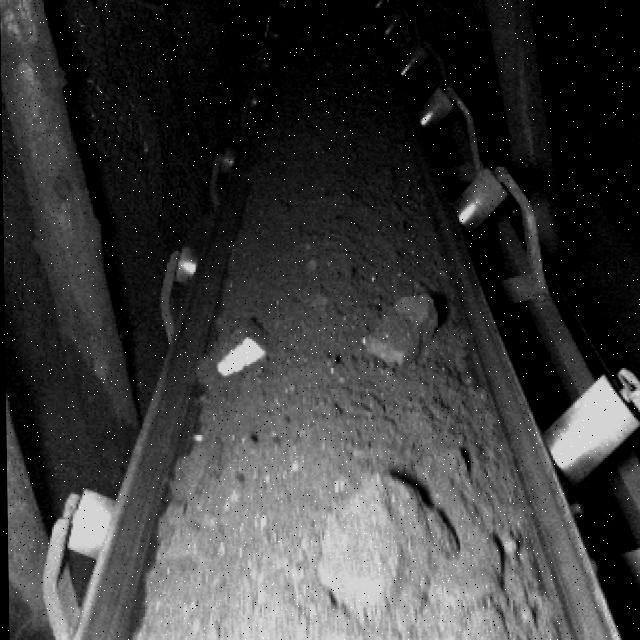large_sized_coal: (308, 469, 448, 623), (363, 295, 435, 360), (211, 324, 269, 379)
